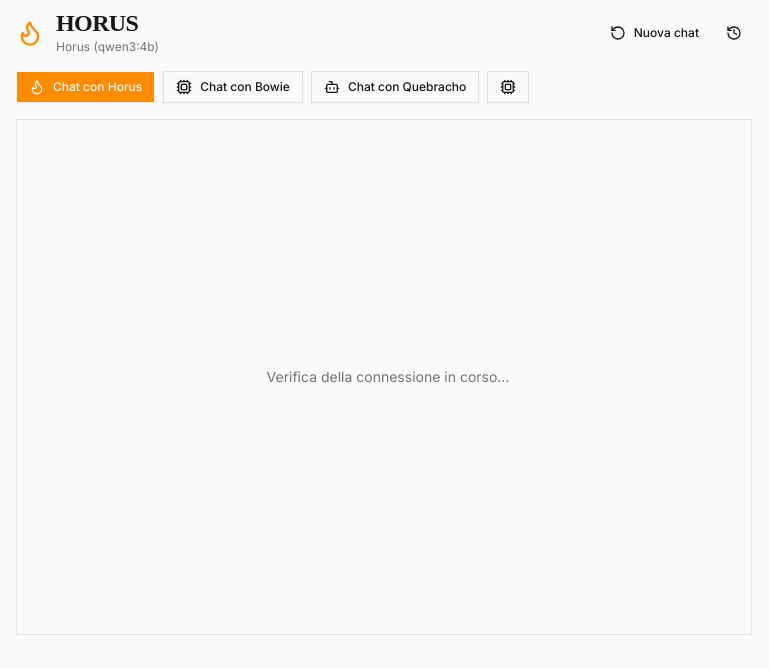
Test: HorusChat - testi di presentazione degli agenti › mostra il testo di presentazione di Quebracho in modalità chat con Quebracho
What coordinates should you click on to do the following:
click the button "Chat con Quebracho"
I would click on:
 (395, 87)
Its box is x1=311 y1=71 x2=479 y2=103.
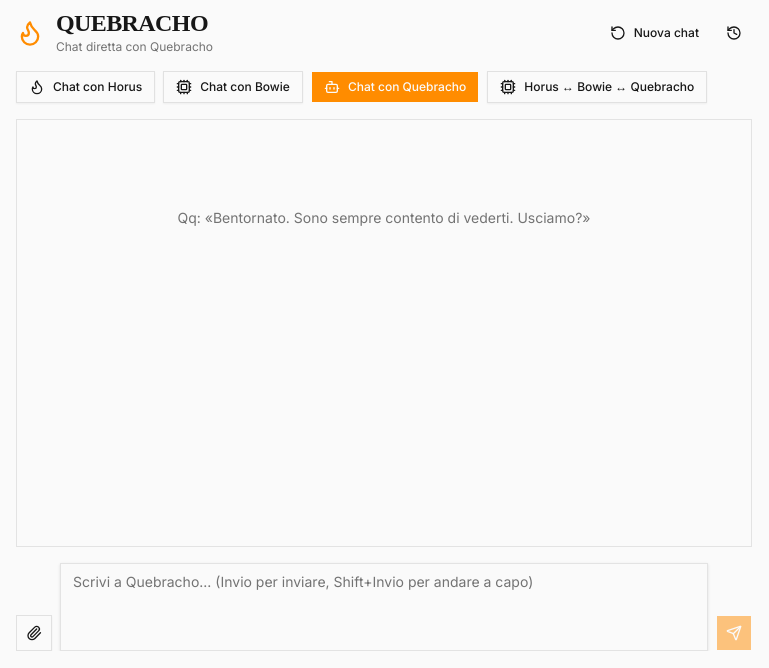
Result: the text "Qq: «Bentornato. Sono sempre contento di vederti. Usciamo?»" is shown at x1=178 y1=209 x2=590 y2=226
